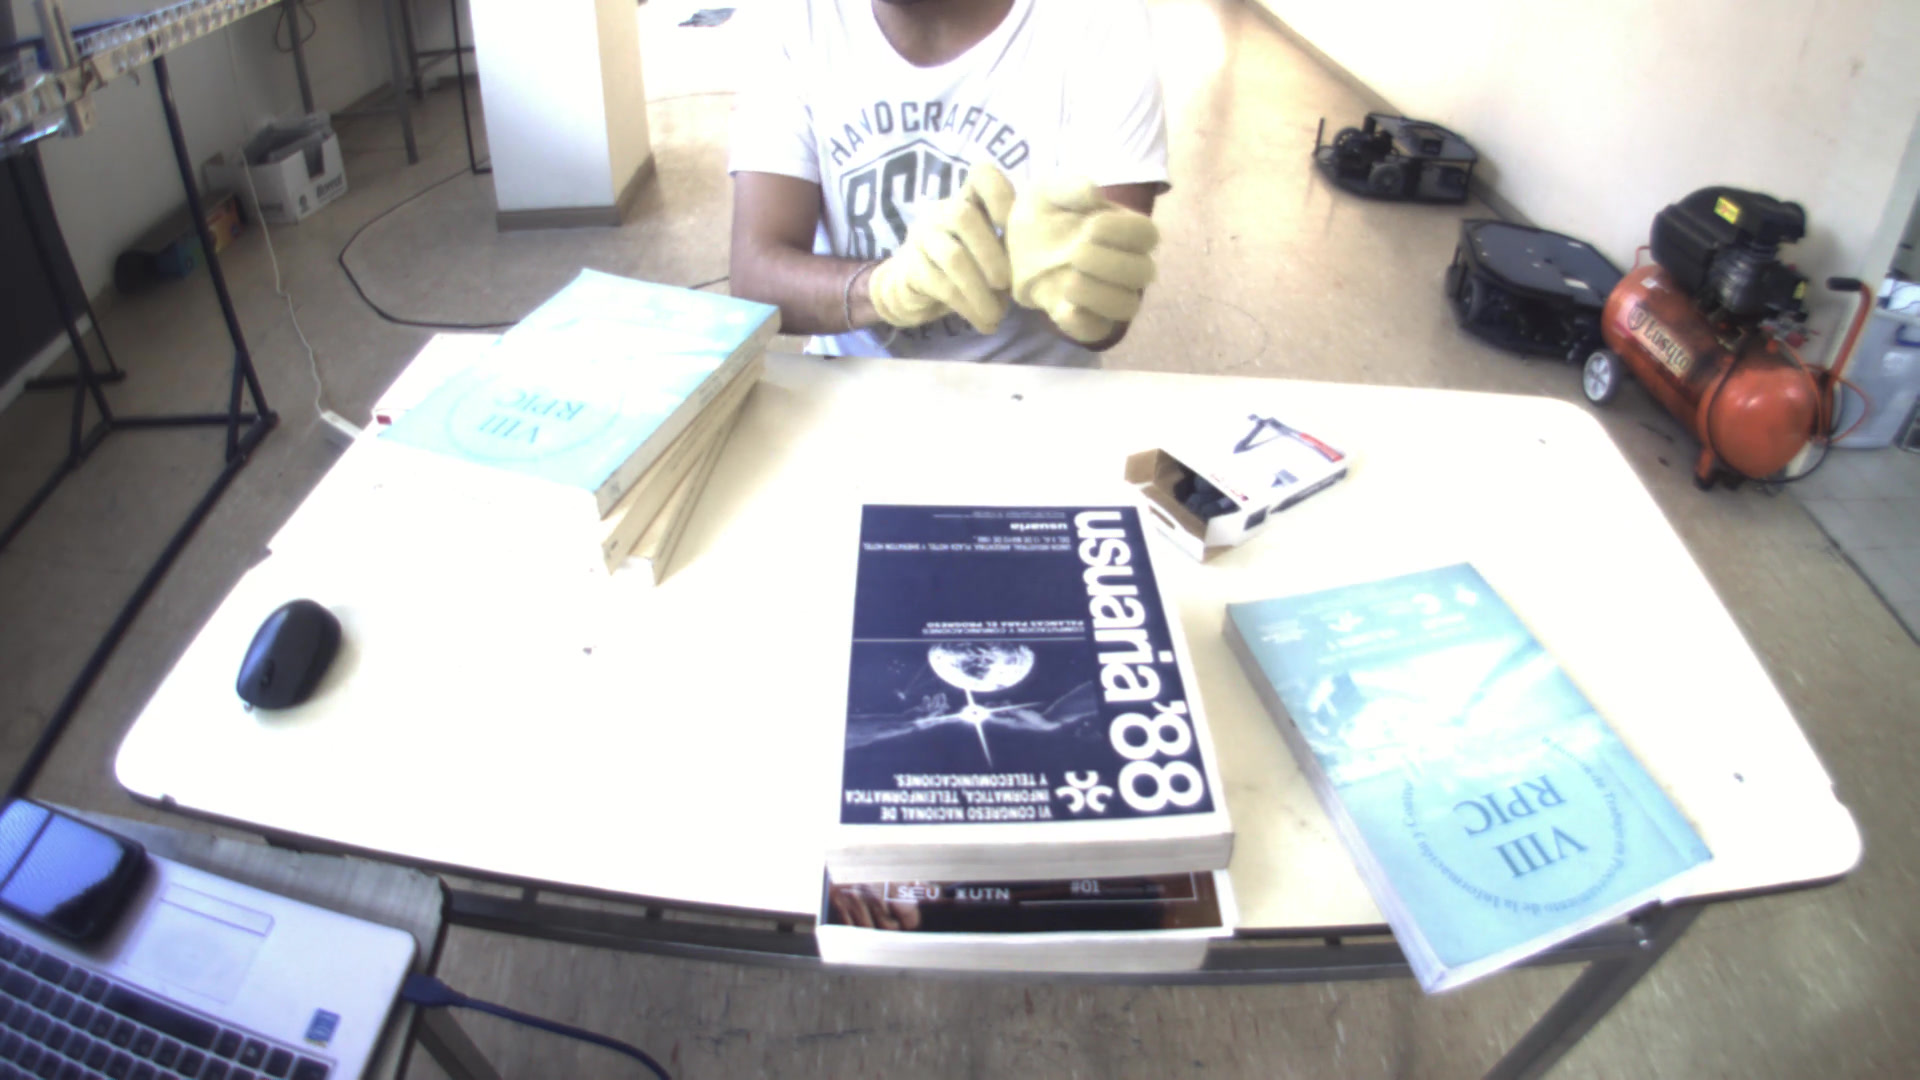hand: (1004, 162, 1167, 347), (856, 161, 1025, 338)
